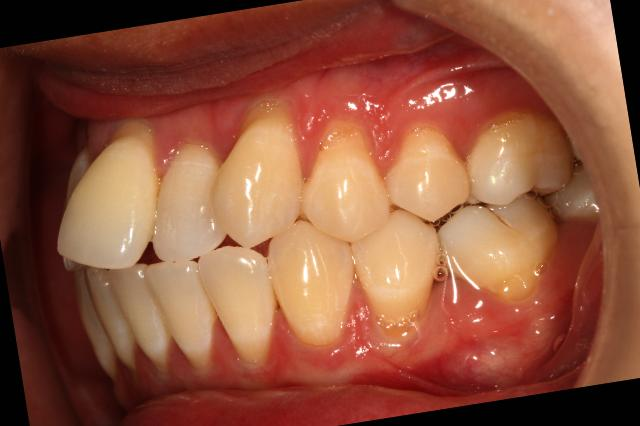canine class II 1/4: (177, 100, 369, 374)
molar class III 1/4: (419, 94, 598, 311)
